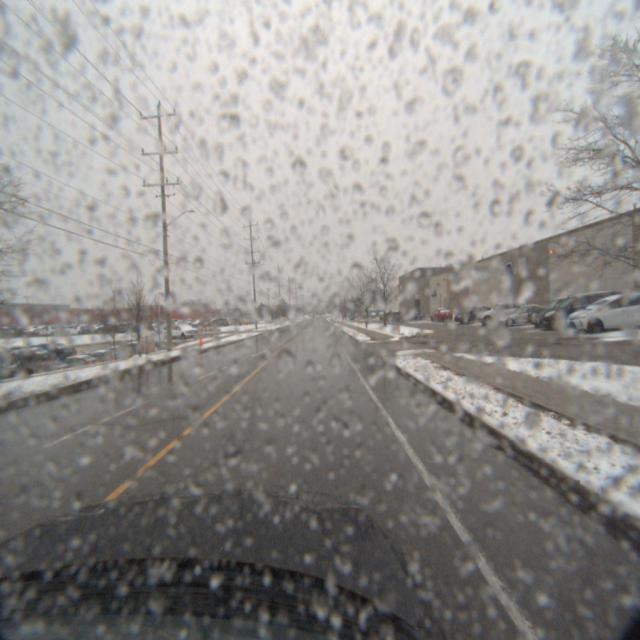Car: (526, 290, 626, 332), (517, 292, 599, 328), (488, 303, 554, 328), (468, 301, 526, 327), (446, 306, 494, 326), (423, 308, 450, 324)
Truck: (159, 325, 197, 345)
